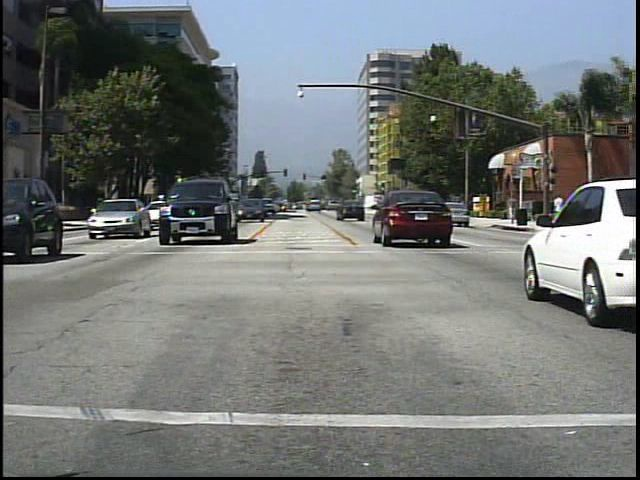person: (506, 189, 519, 226), (550, 190, 570, 213)
